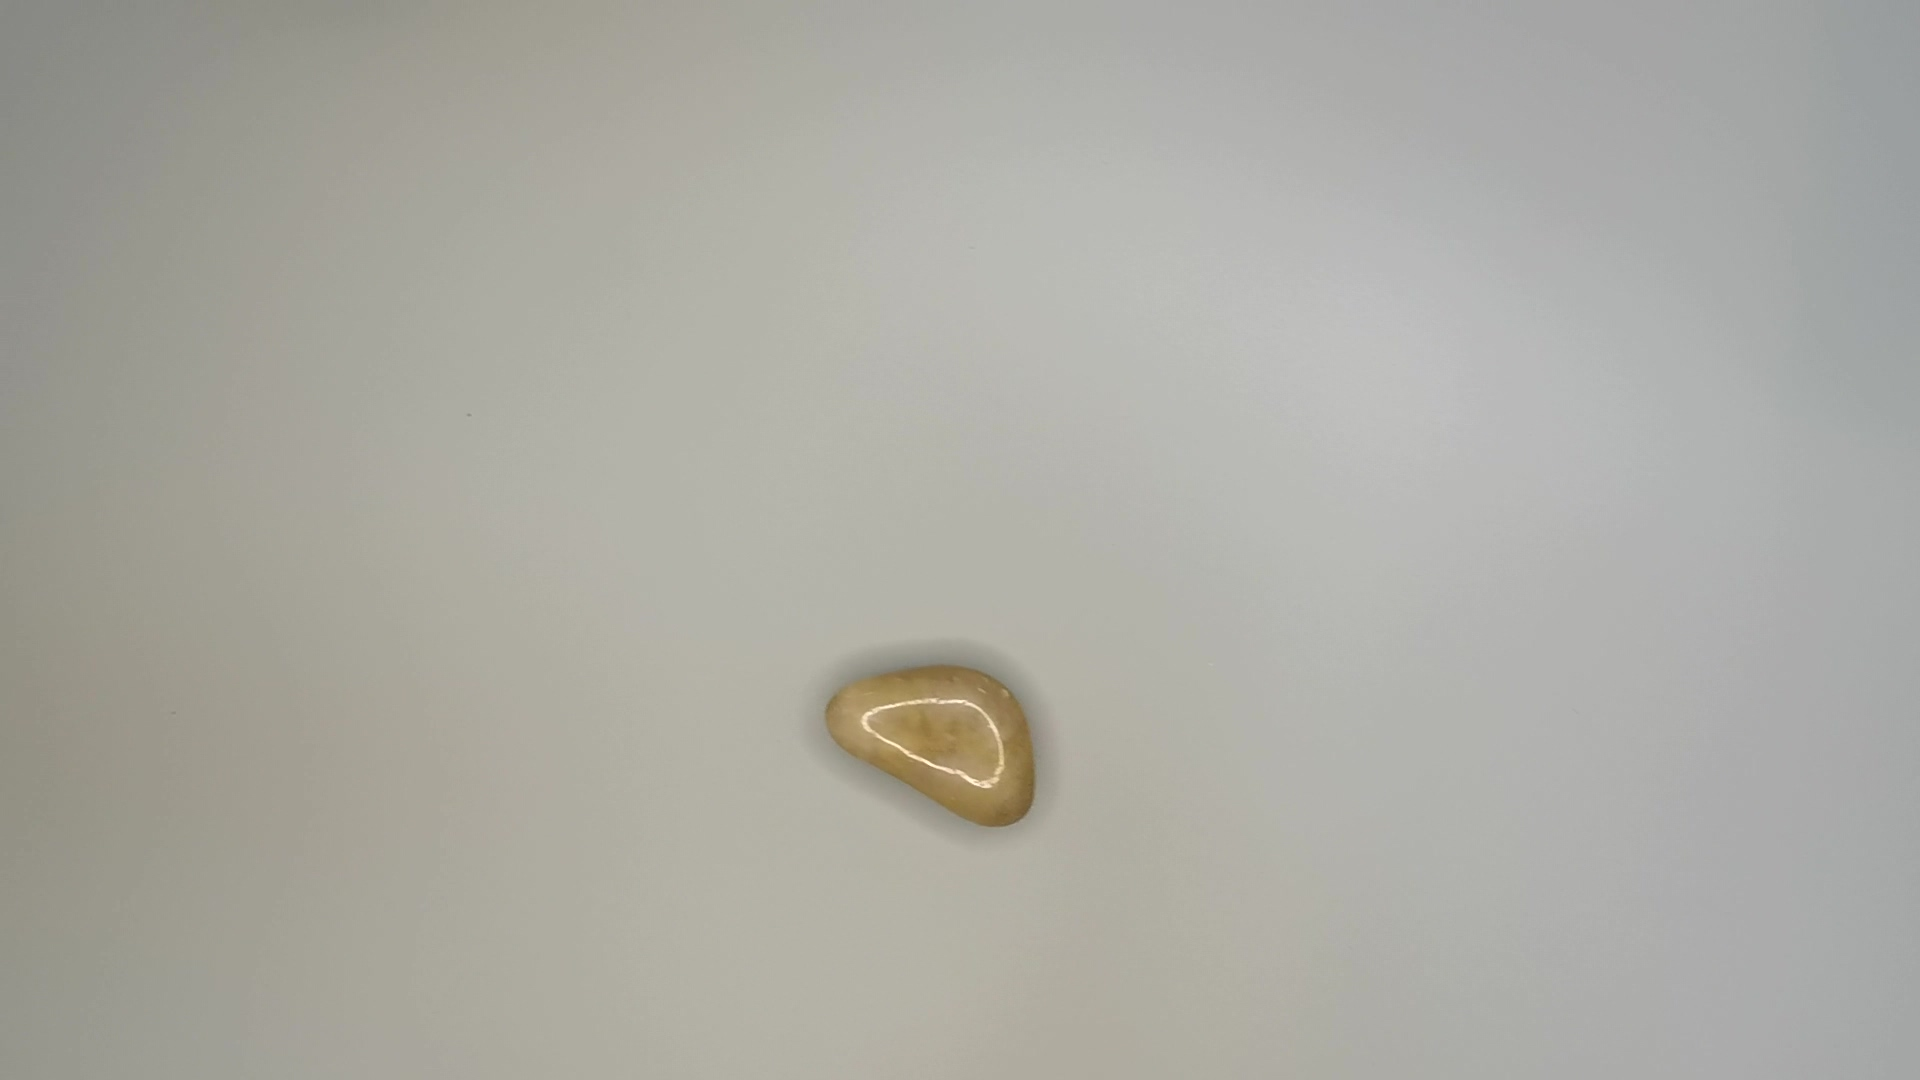ceramic: (825, 665, 1044, 831)
